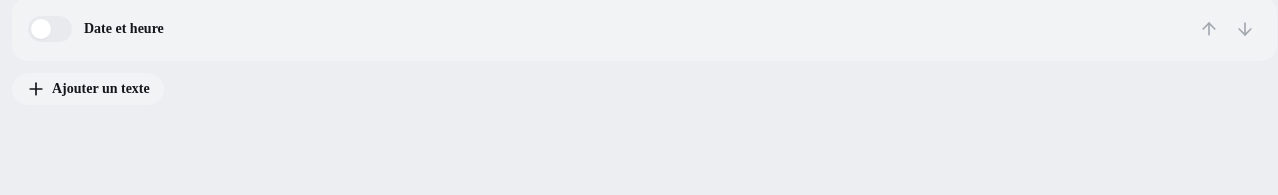
Test: the list of facts › shows no field for a fact that is switched off
Expected: the field labelled "Intitulé" is not shown
Click the switch named "Date et heure" at (50, 29), box [28,16,72,42]
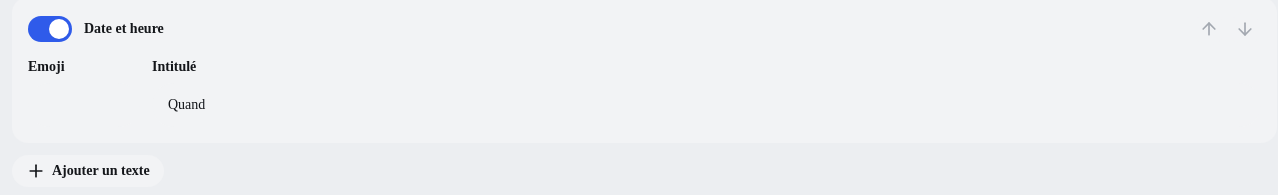
Result: the field labelled "Intitulé" is shown at [152,83,1261,127]
